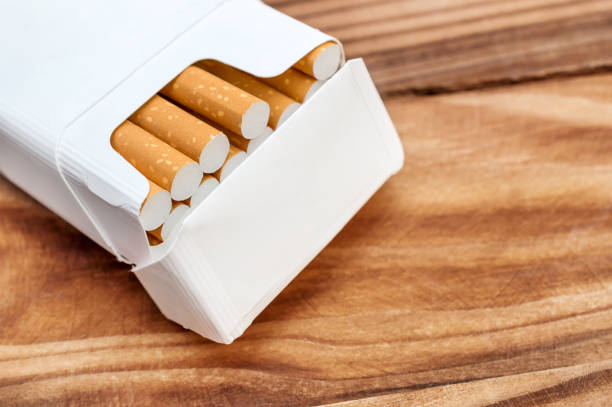cigarette: (0, 0, 407, 347), (158, 66, 271, 139), (128, 94, 231, 174), (192, 57, 302, 131), (109, 120, 204, 202), (186, 108, 274, 154), (256, 66, 324, 103), (292, 40, 341, 80), (146, 199, 190, 242), (140, 179, 173, 233), (210, 143, 249, 183), (180, 171, 219, 205)
